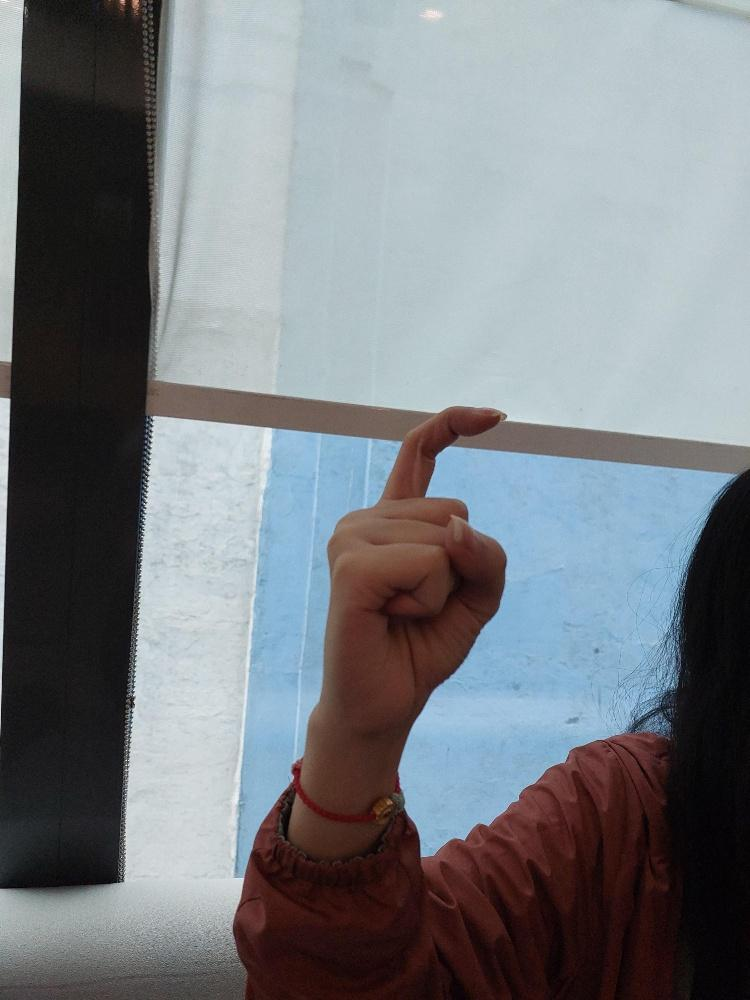x: (316, 401, 511, 744)
